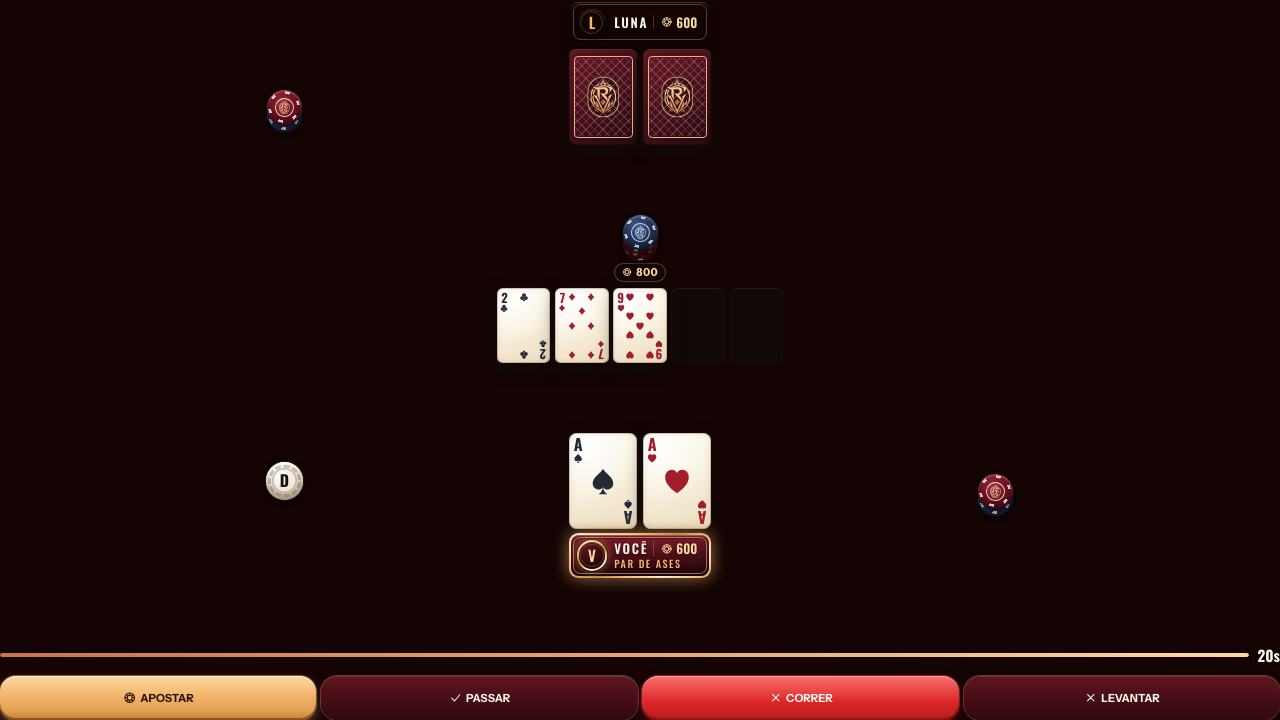
Test: PokerArena — a barra de apostas › e a pergunta traz a CONTA da saída: o que fica, para quem, e o que sobra
This screenshot has width=1280, height=720.
Click the button with test id "leave-table". click: (1122, 698)
box: x1=964 y1=676 x2=1279 y2=719
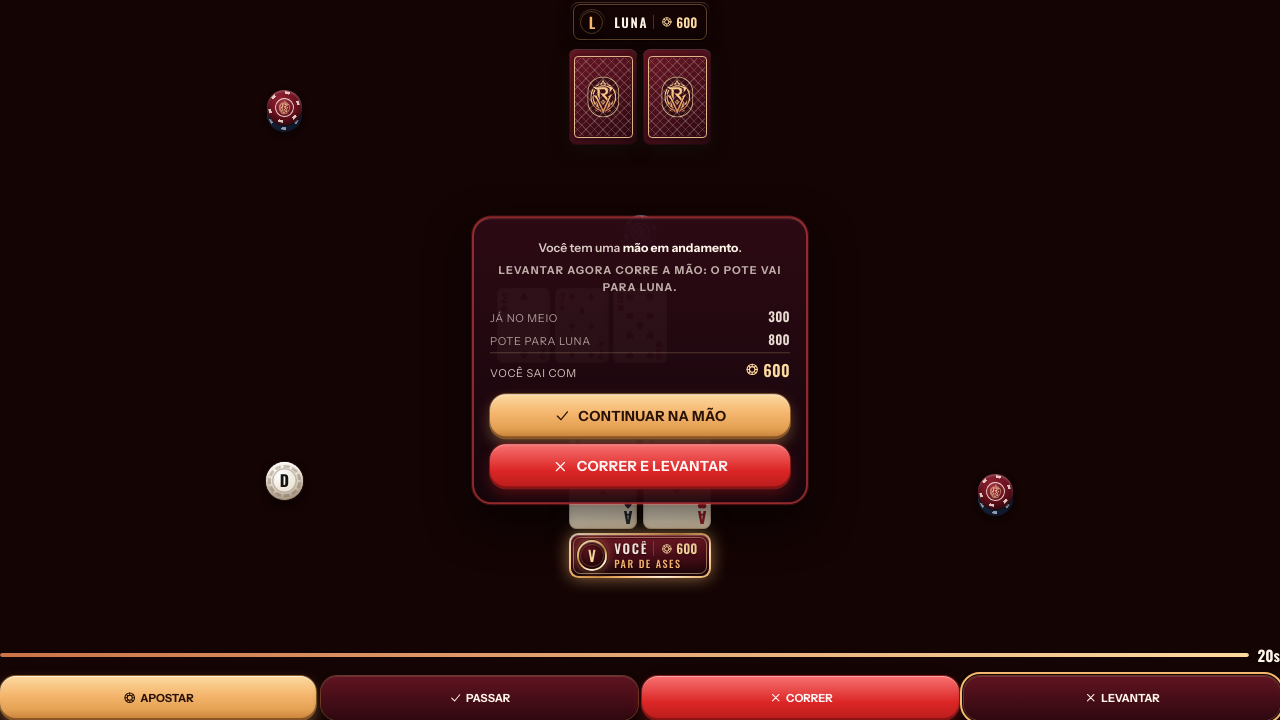
Expected: the text with test id "leave-committed" reads "300", x1=768 y1=306 x2=790 y2=326
Expected: the text with test id "leave-pot" reads "800", x1=768 y1=329 x2=790 y2=349
Expected: the element with test id "leave-stack" reads "600", x1=763 y1=358 x2=790 y2=382
